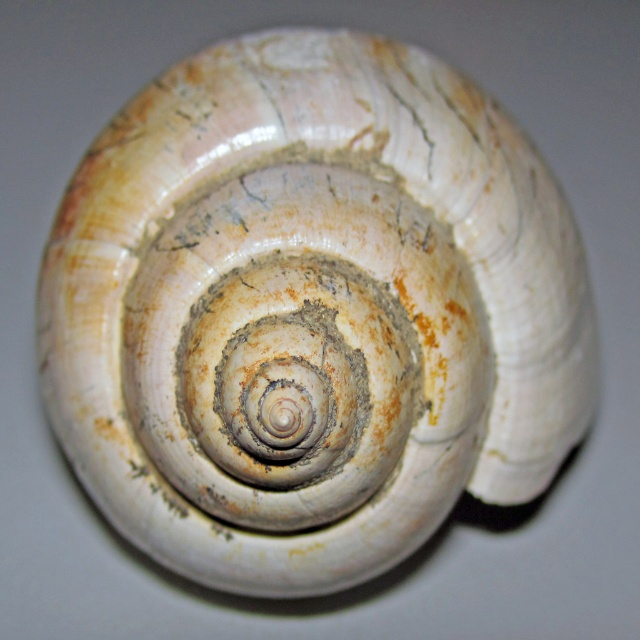Snail: (31, 23, 604, 604)
